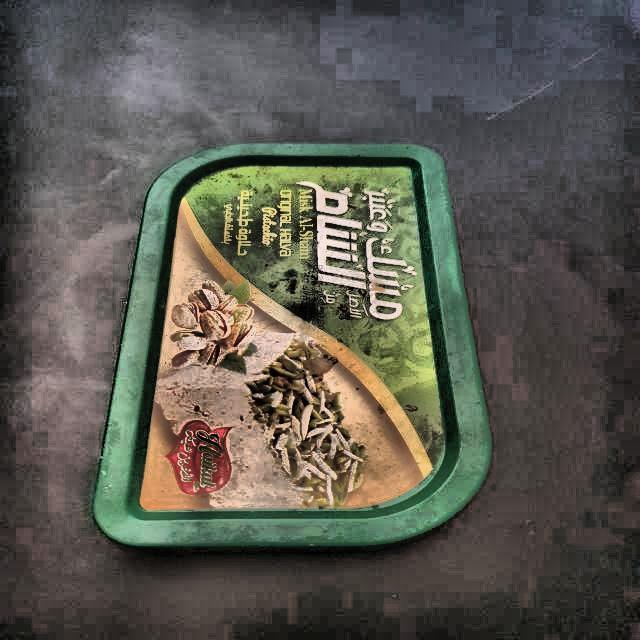plastic: (90, 145, 491, 558)
